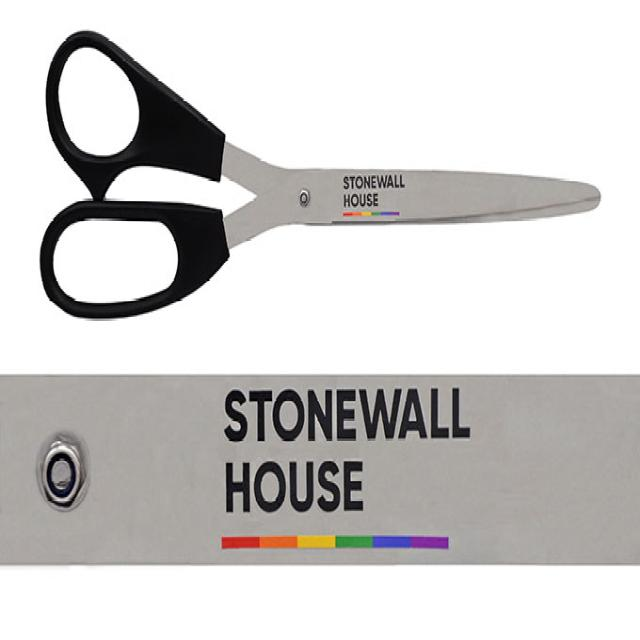scissor: (39, 57, 621, 356), (40, 433, 94, 507)
